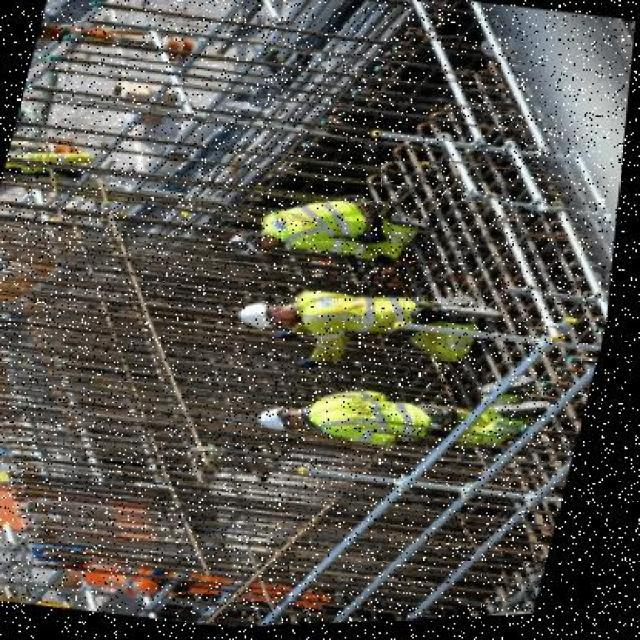helmet: (235, 294, 289, 334), (251, 400, 305, 438), (223, 232, 271, 264)
vest: (306, 379, 460, 461), (292, 285, 430, 359), (269, 194, 379, 260)
